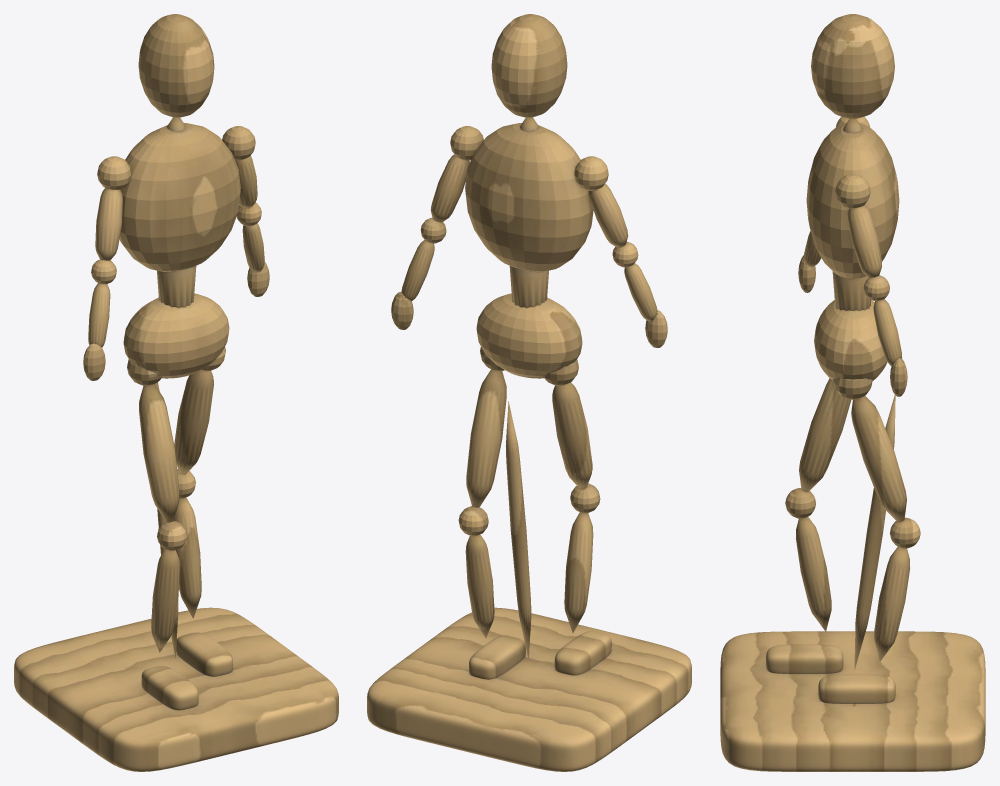
The model's file is walking.glb.
3 renders of one model, left to right at view 1: azimuth 30°, elevation 25°; view 2: azimuth 150°, elevation 25°; view 3: azimuth 270°, elevation 25°, orthographic.
Visible parts, largest first — view 1: mannequin_wood; view 2: mannequin_wood; view 3: mannequin_wood.
Boxes of the visible parts, <box> form: mannequin_wood: <box>14,14,338,771</box>; mannequin_wood: <box>367,14,691,771</box>; mannequin_wood: <box>720,14,985,771</box>.
Size of the model in its own units: 0.1224 by 0.352 by 0.12.
Materials: 1 (1 with a texture image).
